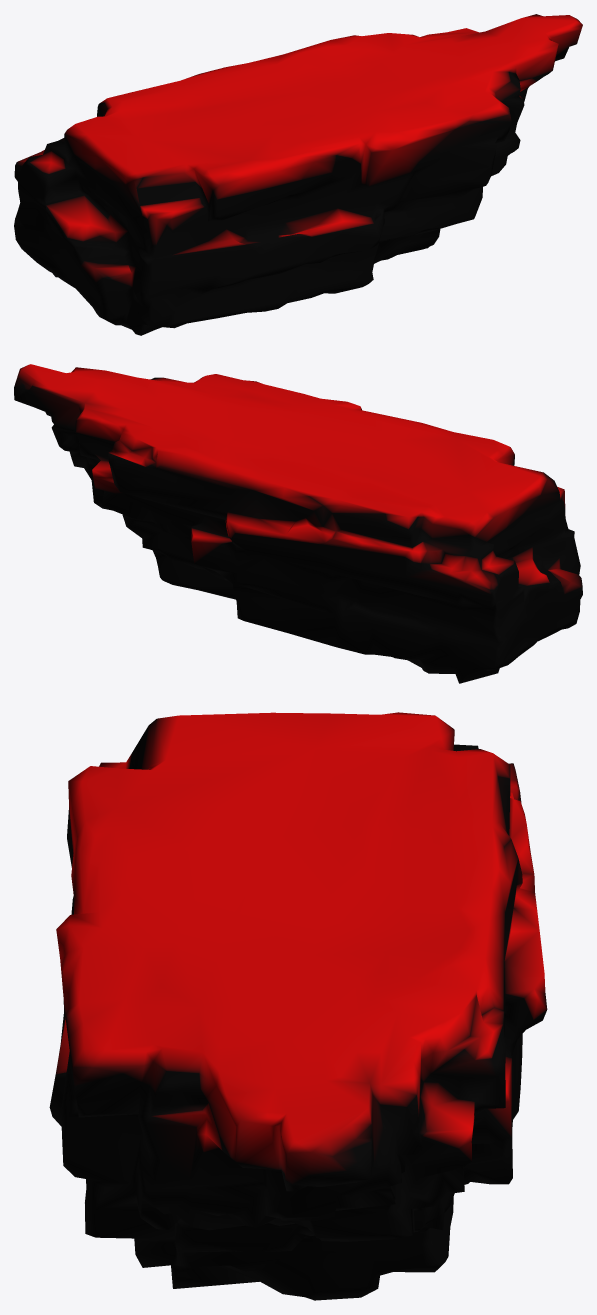
The model's file is SM_Cliff_5.FBX.
3 renders of one model, top to bottom at view 1: azimuth 30°, elevation 25°; view 2: azimuth 150°, elevation 25°; view 3: azimuth 270°, elevation 25°, orthographic. The views are drawn at different scales.
Visible parts, largest first — view 1: SM_Cliff_5; view 2: SM_Cliff_5; view 3: SM_Cliff_5.
Boxes of the visible parts, <box> form: SM_Cliff_5: <box>14,14,582,335</box>; SM_Cliff_5: <box>14,364,582,683</box>; SM_Cliff_5: <box>49,712,547,1300</box>.
Size of the model in its own units: 2862 by 1193 by 890.
